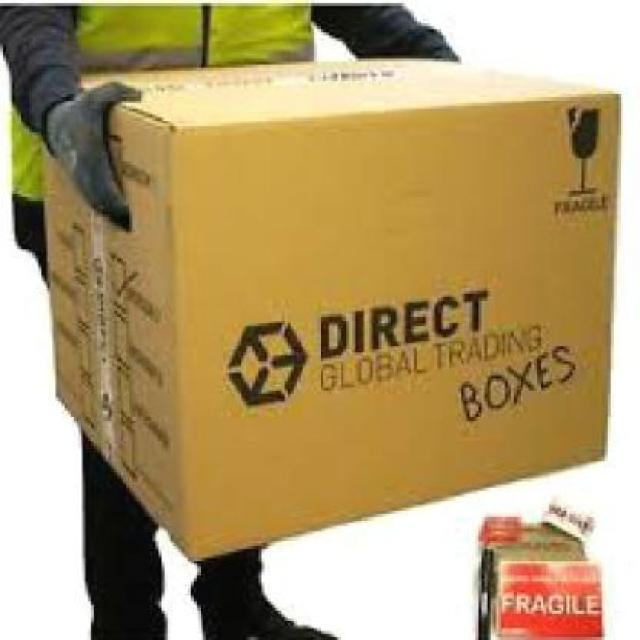-: (38, 58, 640, 560)
